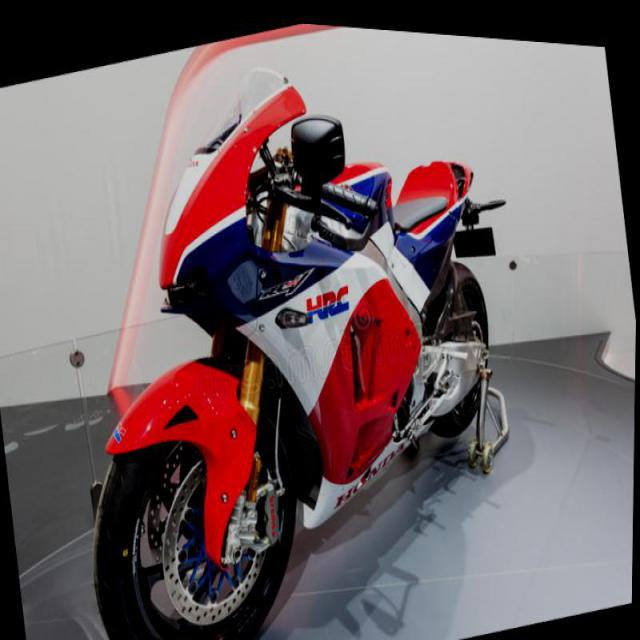HRC RCV 213: (34, 2, 548, 639)
